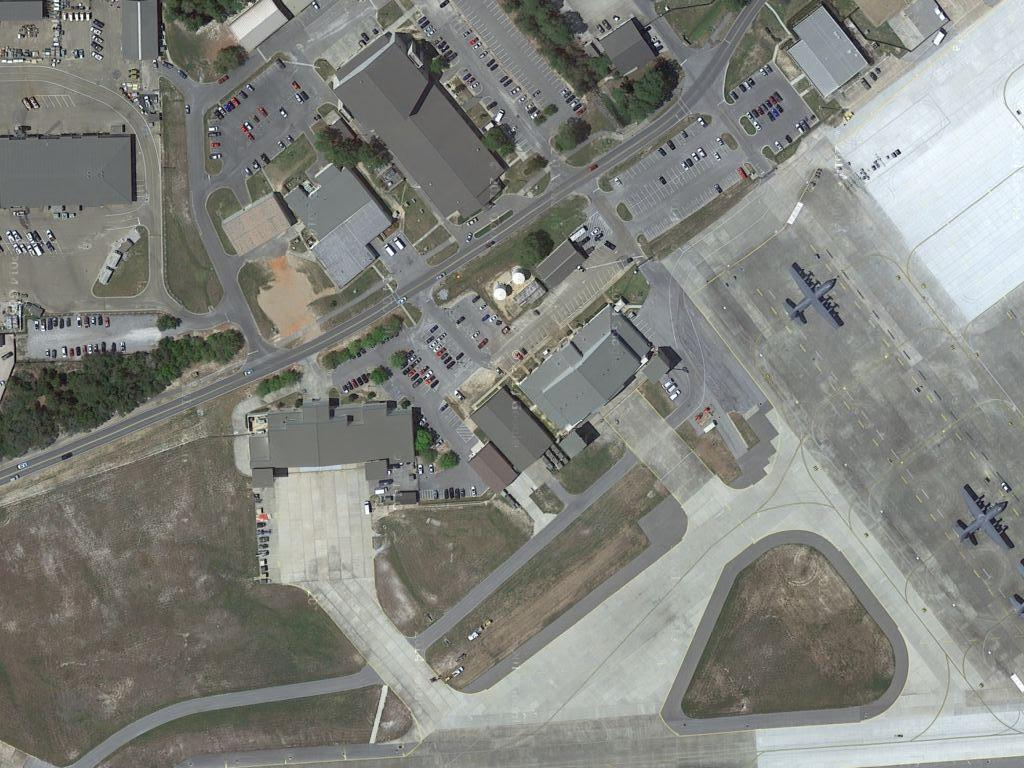C-130: (949, 482, 1016, 559), (780, 262, 846, 333)
